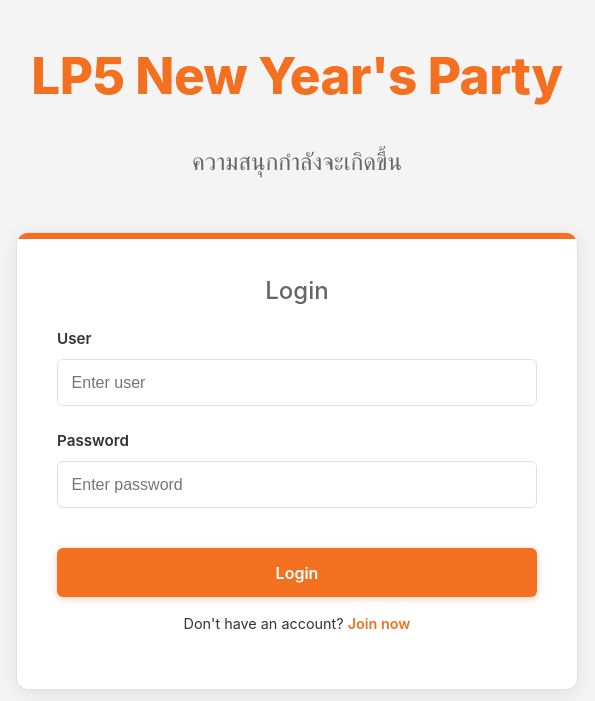
Scenario: App Component › allows admin to reveal all names globally
Type "admin" into the field with placeholder "Enter user".
click(297, 383); type("admin")  # box [57,359,537,406]
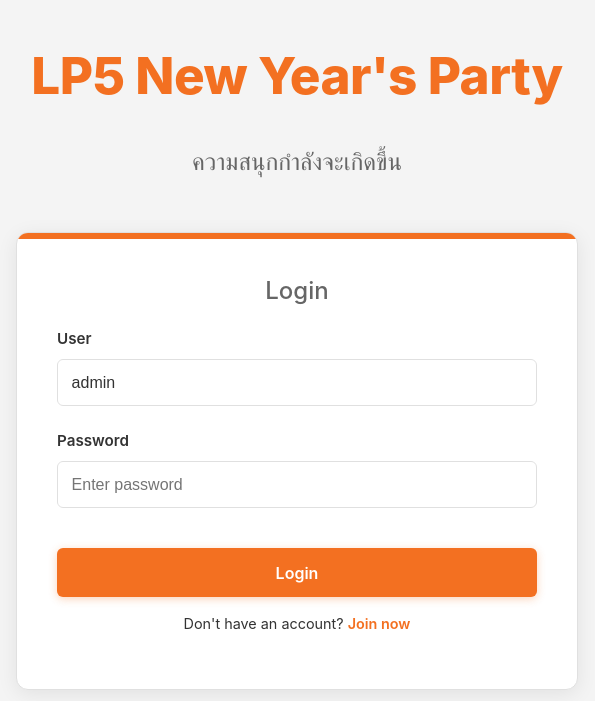
Type "password" into the password field with placeholder "Enter password".
click(297, 485); type("password")  # box [57,461,537,508]
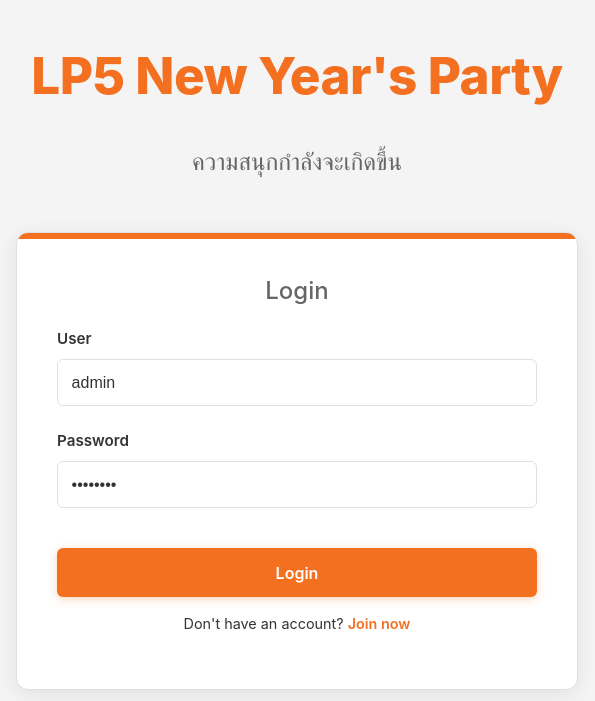
Click the button "Login".
click(297, 573)  # box [57,548,537,597]
(page scrolled)
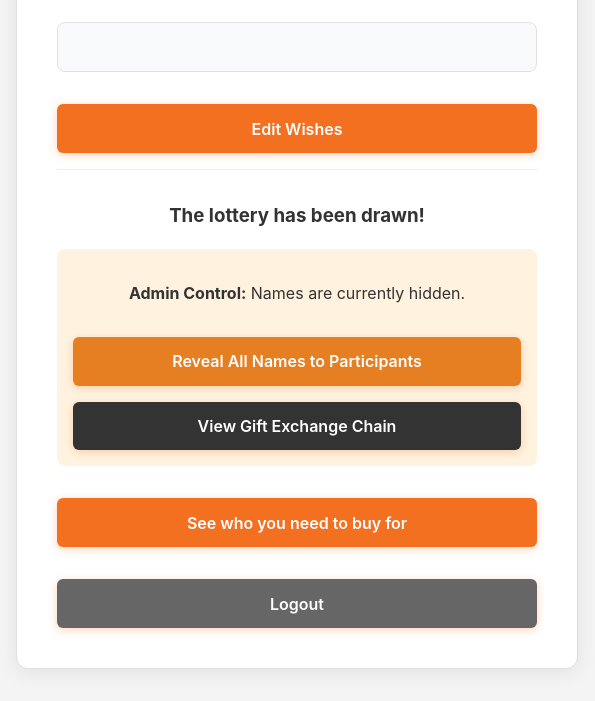
Result: the button "Reveal All Names to Participants" is shown
Click the button "Reveal All Names to Participants".
click(297, 361)  # box [73,337,521,386]
(page scrolled)
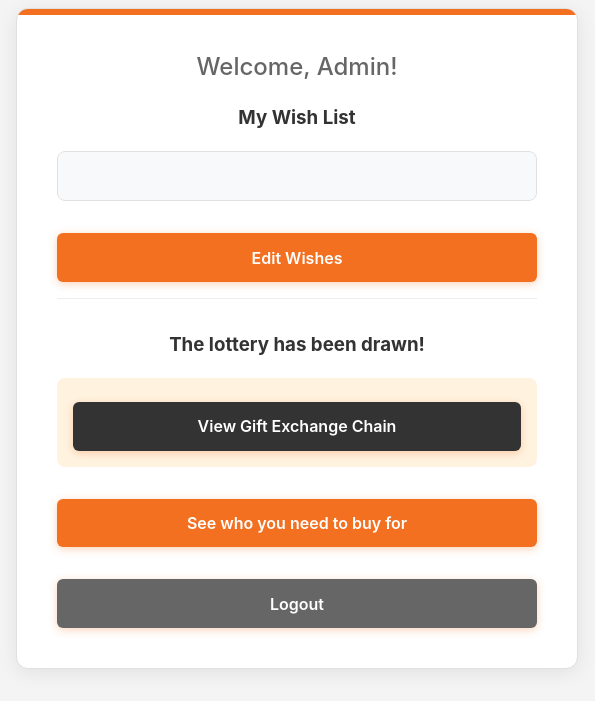
Result: the button "Reveal All Names to Participants" is gone
